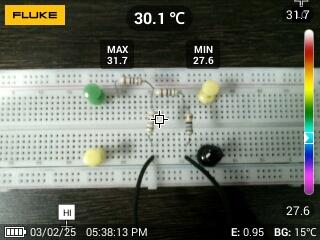resistor: (152, 86, 182, 100), (118, 74, 145, 88), (183, 109, 195, 139), (145, 108, 156, 137)
